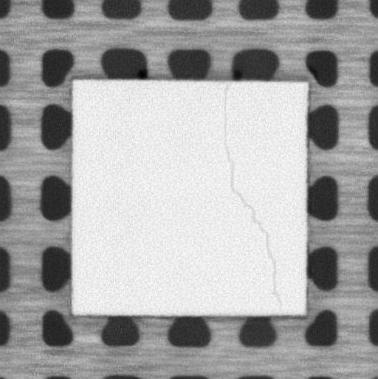DIE_CRACK: (221, 83, 282, 308)
